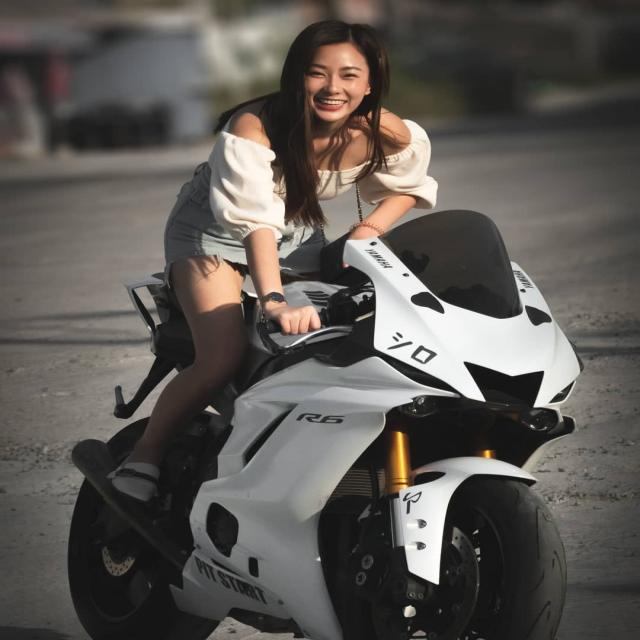Not Wearing Helmet: (221, 21, 433, 149)
